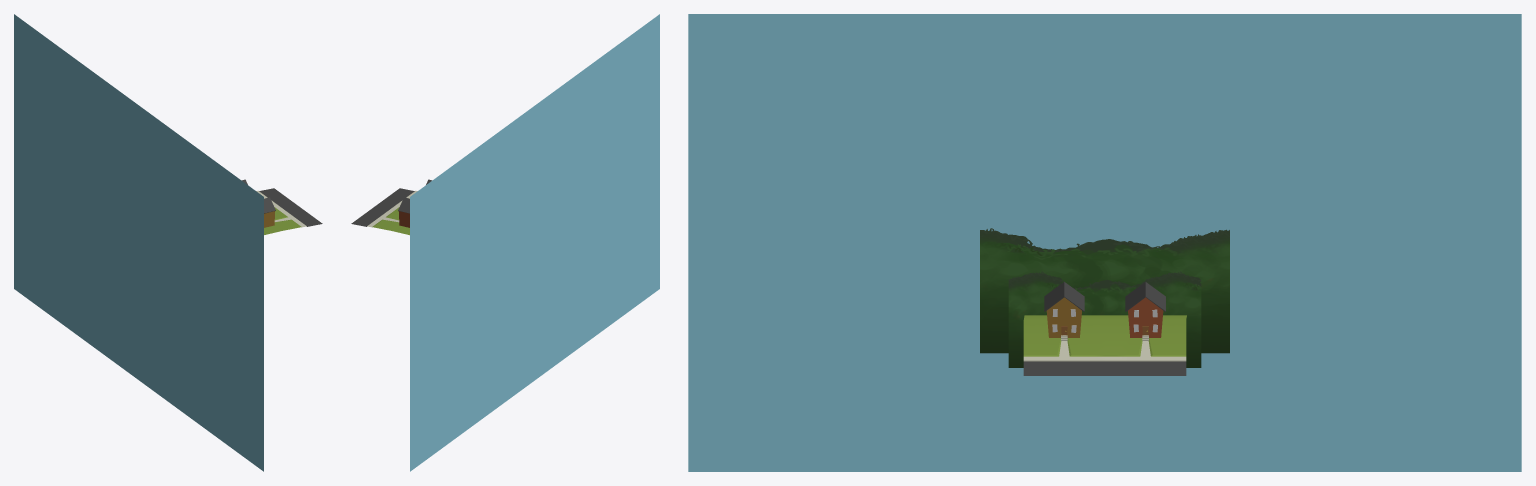
Rendered from background-set-final-1.fbx.
3 renders of one model, left to right at view 1: azimuth 30°, elevation 25°; view 2: azimuth 150°, elevation 25°; view 3: azimuth 270°, elevation 25°, orthographic. The views are drawn at different scales.
Visible parts, largest first — view 1: Sky, RoadLawn; view 2: Sky, RoadLawn; view 3: Sky, Forst2, RoadLawn, Forst1, House1, House2.
Part boxes in pixels (x1,y1,x2,y2): Sky: (14,14,263,471); RoadLawn: (256,188,322,234); Sky: (410,14,659,471); RoadLawn: (351,188,417,235); Sky: (688,14,1521,471); Forst2: (980,228,1229,353); RoadLawn: (1023,315,1186,375); Forst1: (1008,271,1201,367); House1: (1044,282,1084,337); House2: (1125,282,1165,337).
Bounding box in the file's own units: 56.94 × 93.81 × 155.
